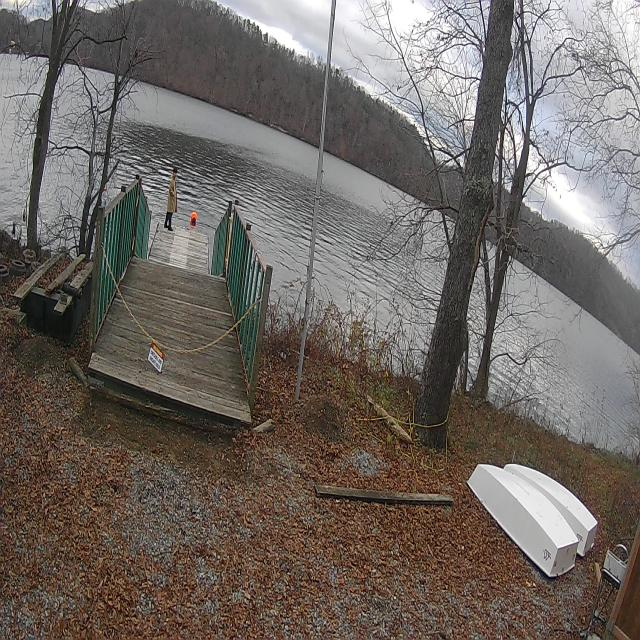Buoy: (190, 210, 198, 227)
